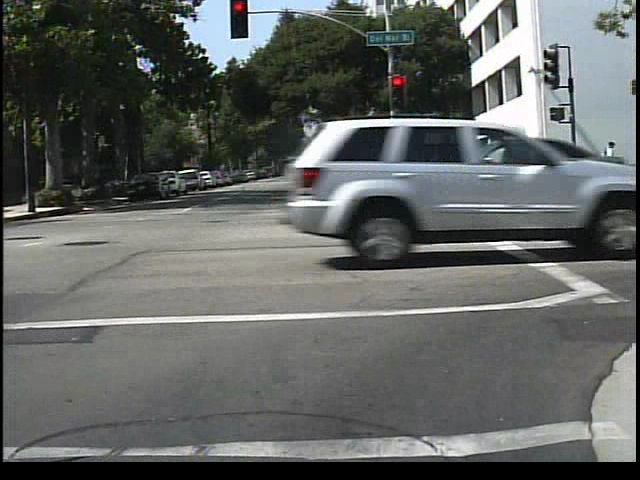person: (596, 134, 622, 199)
